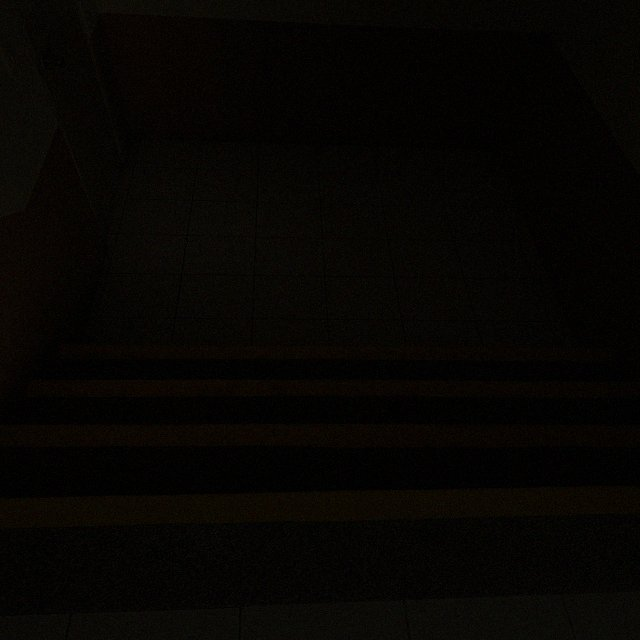stair: (0, 345, 639, 613)
